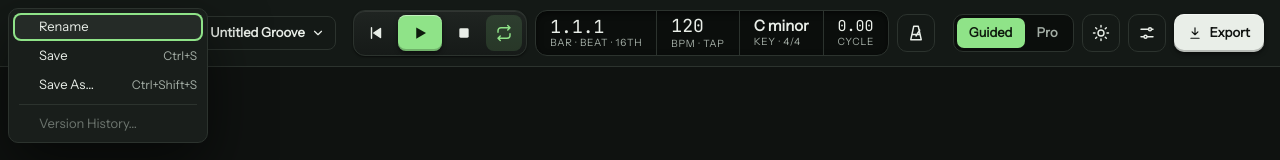
Test case: AppHeader › should rename the project inline from its right-click menu
This screenshot has width=1280, height=160.
Click the menu item "Rename": (108,27) [13, 13, 203, 41]
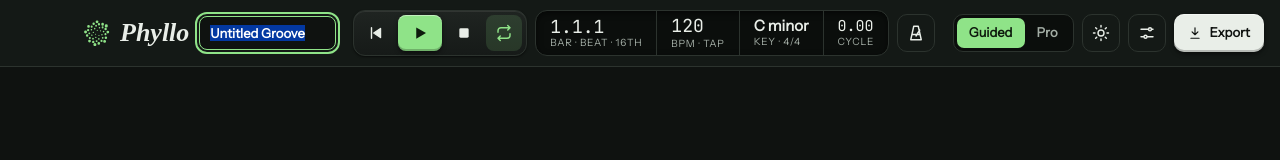
Type keys "{Control>}a{/Control}Night Bus{Enter}"
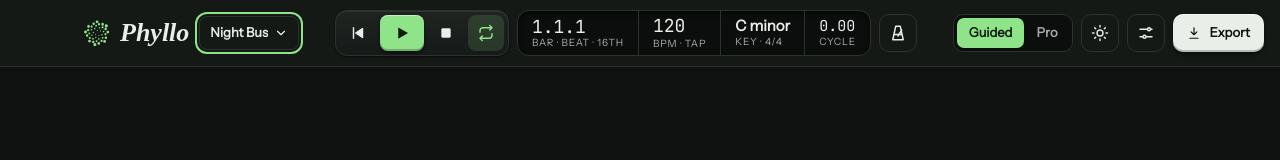
Result: the text "Night Bus" is shown at [210, 24, 268, 42]
